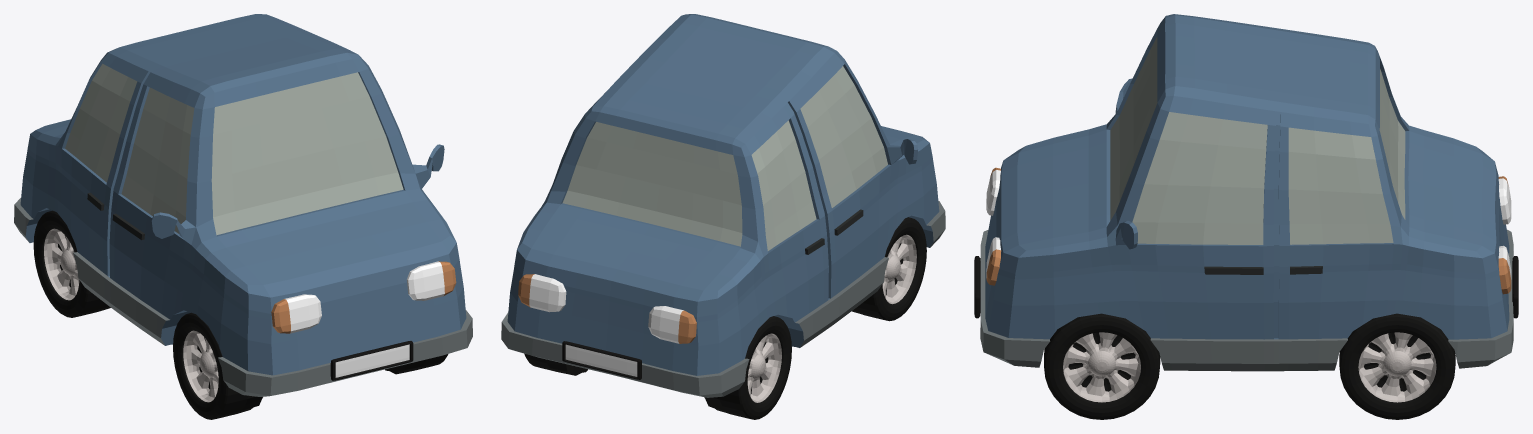
File: car2-2 (1).fbx
3 renders of one model, left to right at view 1: azimuth 30°, elevation 25°; view 2: azimuth 150°, elevation 25°; view 3: azimuth 270°, elevation 25°, orthographic. The views are drawn at different scales.
Visible parts, largest first — view 1: Cube, Cylinder.006, Cylinder.004, Cube.001, Cube.004, Cube.003, Cylinder.005; view 2: Cube, Cylinder.004, Cylinder.006, Cube.002, Cube.006, Cube.005, Cylinder.007; view 3: Cube, Cylinder.005, Cylinder.007, Cube.003, Cube.005, Cube.006.
Boxes of the visible parts, bbox=[...] form: Cube: bbox=[14, 14, 472, 396]; Cylinder.006: bbox=[173, 312, 262, 419]; Cylinder.004: bbox=[33, 210, 110, 317]; Cube.001: bbox=[330, 341, 413, 380]; Cube.004: bbox=[271, 294, 321, 333]; Cube.003: bbox=[406, 261, 456, 300]; Cylinder.005: bbox=[385, 354, 448, 374]; Cube: bbox=[501, 14, 945, 397]; Cylinder.004: bbox=[704, 316, 791, 419]; Cylinder.006: bbox=[852, 217, 926, 321]; Cube.002: bbox=[562, 341, 641, 379]; Cube.006: bbox=[648, 306, 696, 343]; Cube.005: bbox=[518, 274, 566, 312]; Cylinder.007: bbox=[524, 353, 587, 375]; Cube: bbox=[980, 14, 1513, 371]; Cylinder.005: bbox=[1044, 313, 1160, 419]; Cylinder.007: bbox=[1339, 313, 1455, 419]; Cube.003: bbox=[986, 237, 1001, 285]; Cube.005: bbox=[1498, 245, 1511, 294]; Cube.006: bbox=[1498, 176, 1511, 224].
Bounding box in the file's own units: 485 × 467 × 737.
